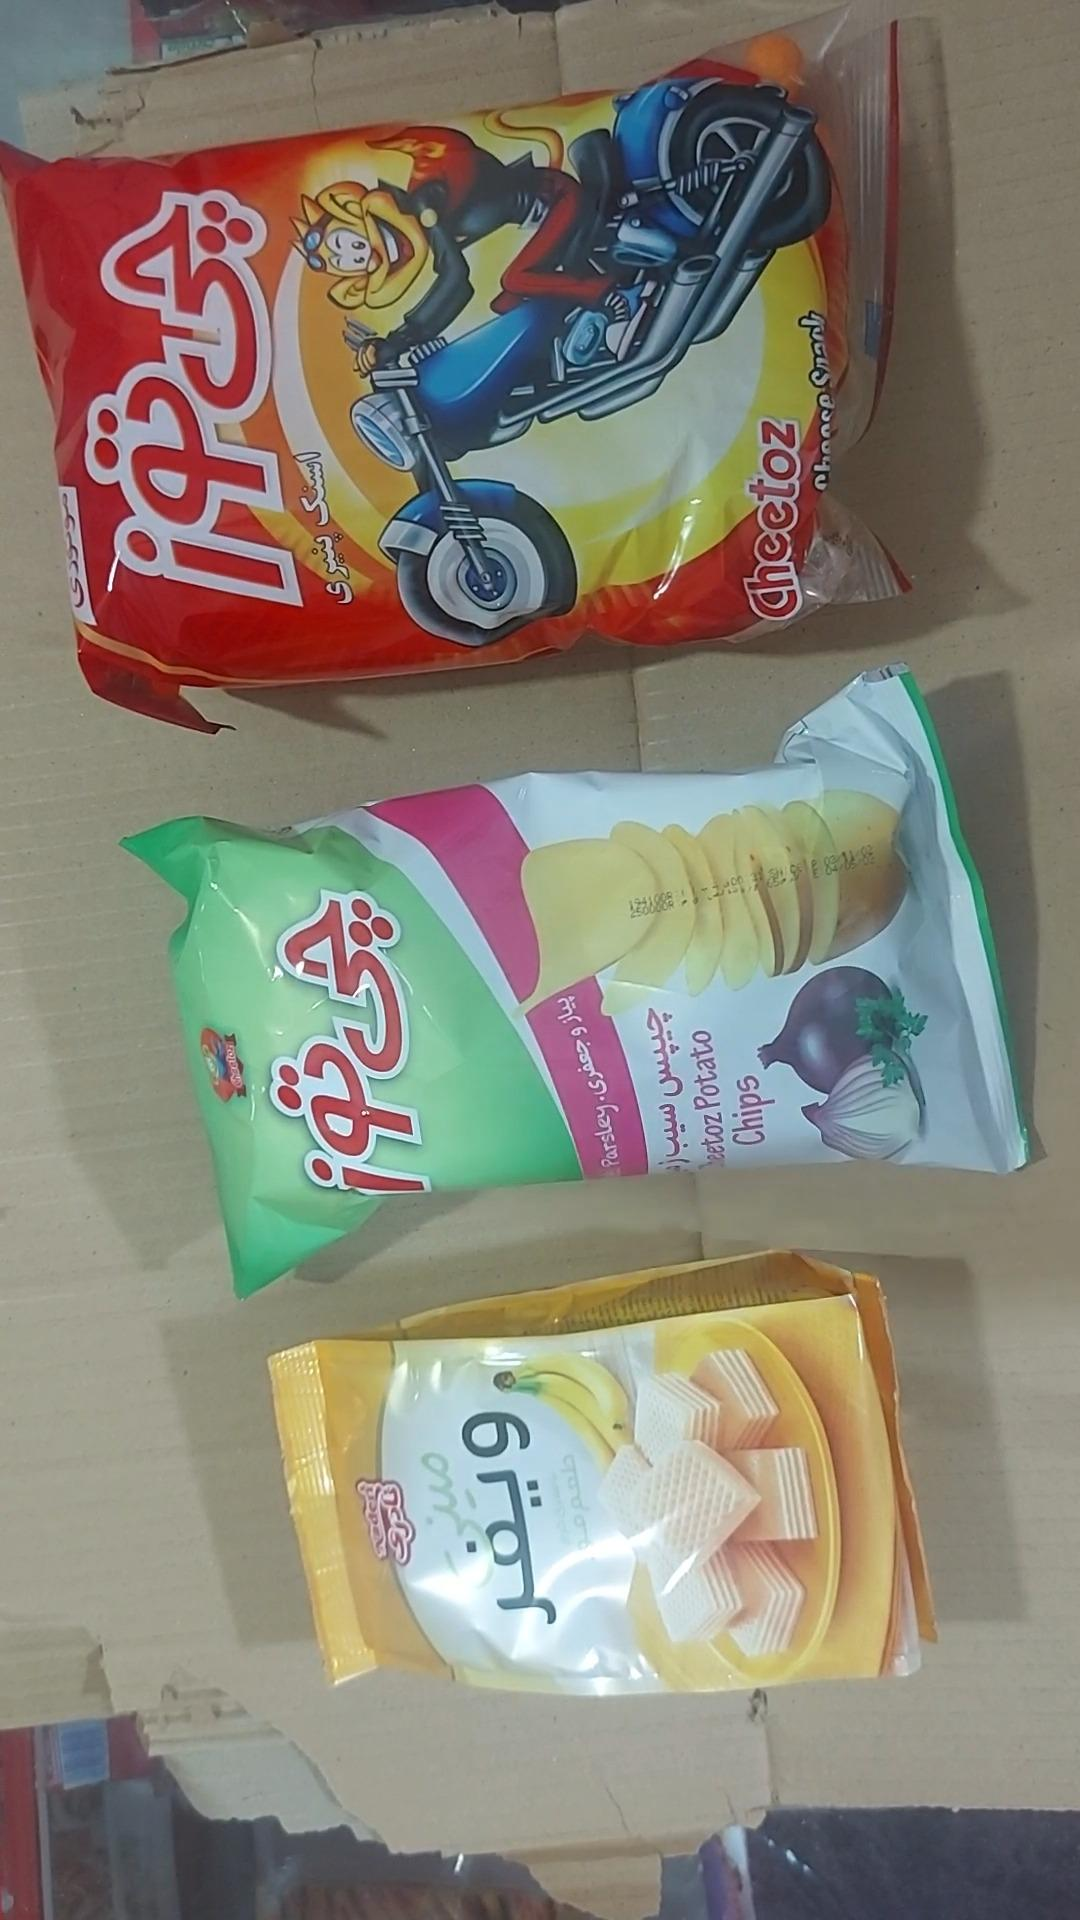Cheetoz onion and parsley chips: (120, 667, 1034, 1300)
Cheetoz snack 90g: (0, 0, 909, 737)
Naderi mini wafer: (265, 1250, 939, 1698)
